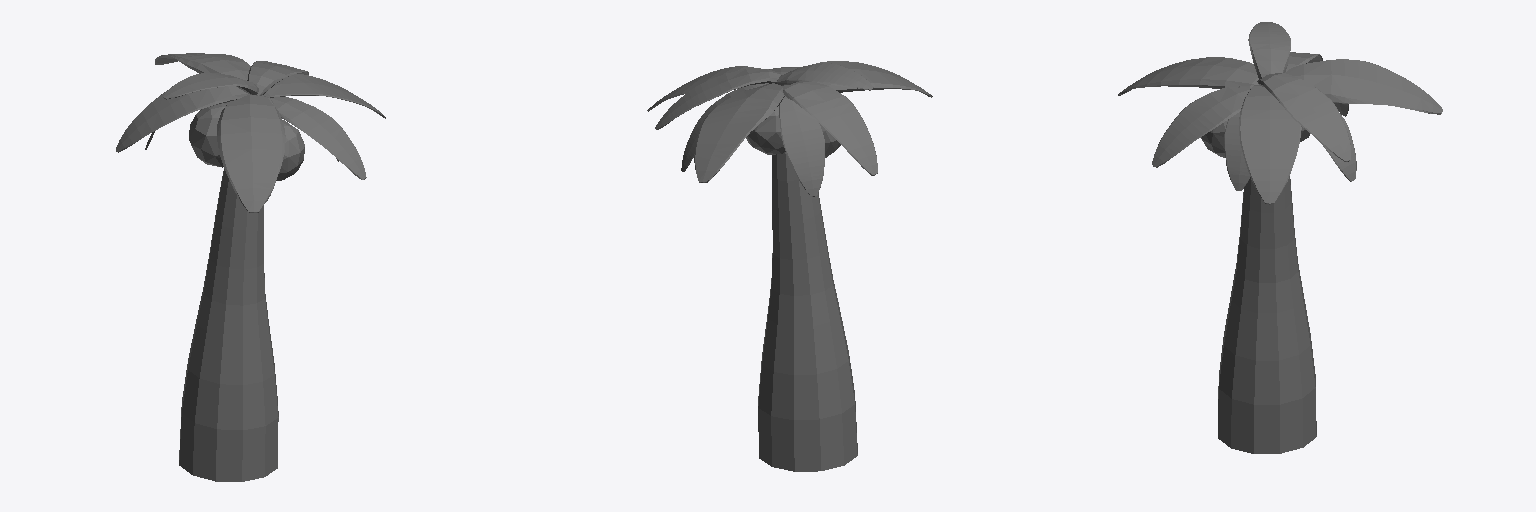
Rendered from palm_tree.obj.
3 views of the same model, side by side, from view 1: azimuth 30°, elevation 25°; view 2: azimuth 150°, elevation 25°; view 3: azimuth 270°, elevation 25° (orthographic).
Visible parts, largest first — view 1: Mesh; view 2: Mesh; view 3: Mesh.
Boxes of the visible parts, x1,y1,x2,y2 form: Mesh: [116, 53, 385, 481]; Mesh: [647, 61, 932, 471]; Mesh: [1118, 22, 1442, 453].
Size of the model in its own units: 6.22 by 9.29 by 7.07.